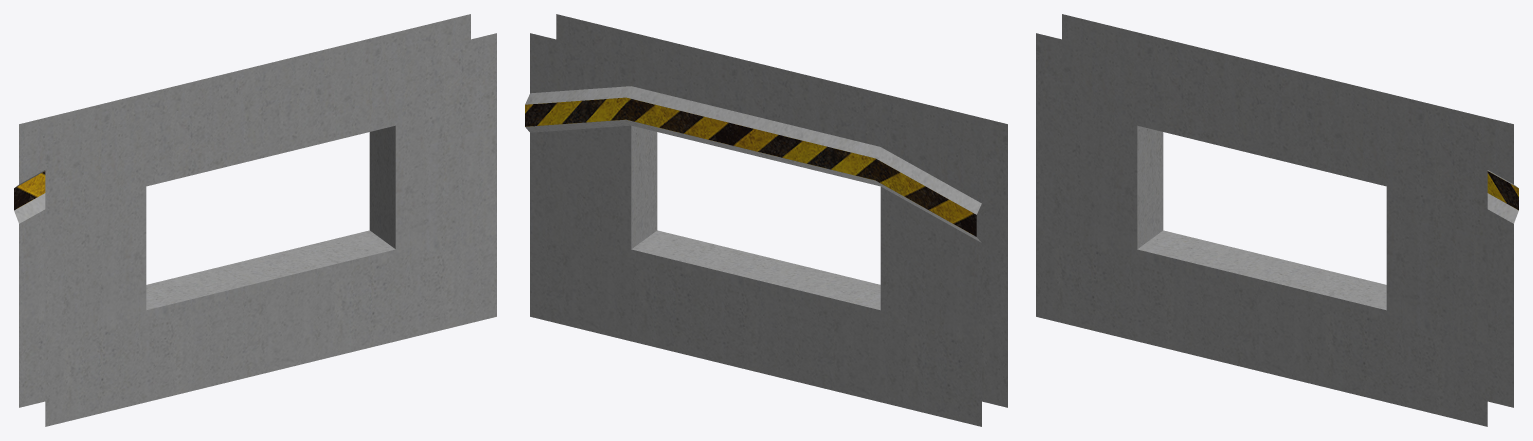
File: Wall_Window_03.FBX
3 renders of one model, left to right at view 1: azimuth 30°, elevation 25°; view 2: azimuth 150°, elevation 25°; view 3: azimuth 330°, elevation 25°, orthographic.
Visible parts, largest first — view 1: Wall_Window_03_mesh; view 2: Wall_Window_03_mesh; view 3: Wall_Window_03_mesh.
Boxes of the visible parts, bbox=[...] form: Wall_Window_03_mesh: bbox=[14, 14, 496, 426]; Wall_Window_03_mesh: bbox=[525, 14, 1007, 426]; Wall_Window_03_mesh: bbox=[1036, 14, 1518, 426].
Bounding box in the file's own units: 500 × 300 × 59.8.
Materials: 2 (2 with a texture image).
